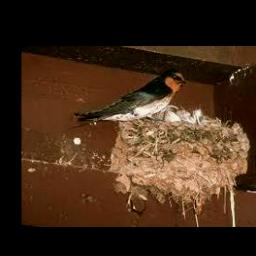Swallow: (75, 70, 186, 123)
